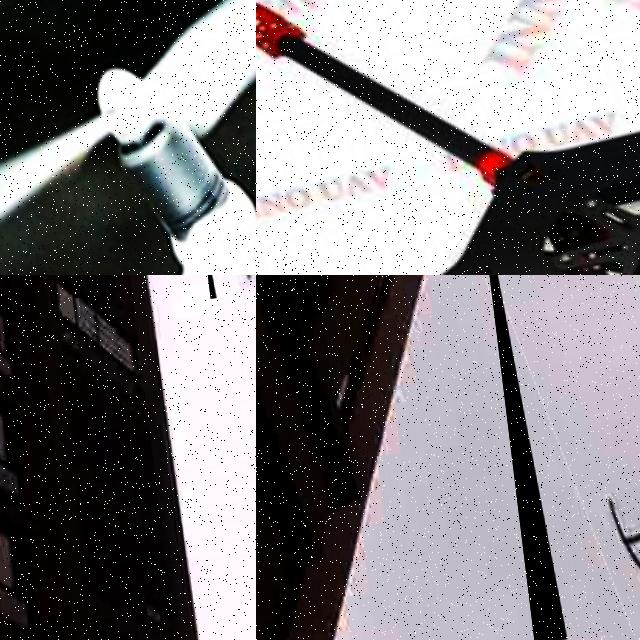0: (474, 275, 640, 640)
drone: (256, 0, 640, 275), (0, 0, 256, 275)
